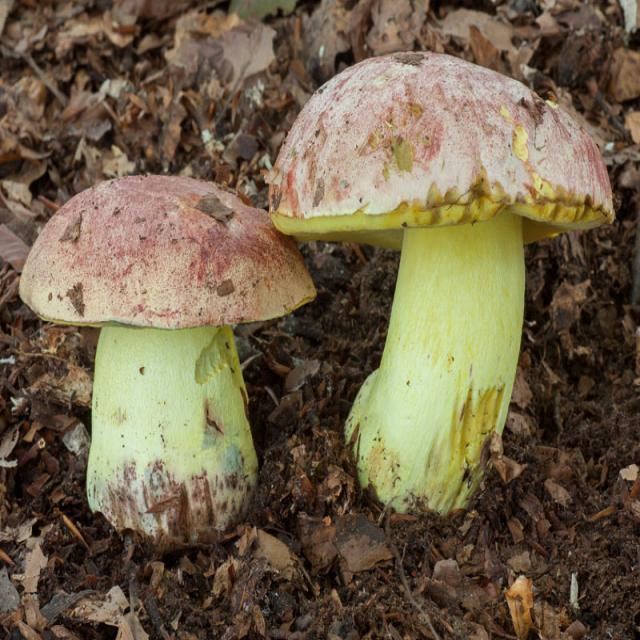Boletus: (272, 52, 614, 522), (24, 176, 315, 535)
